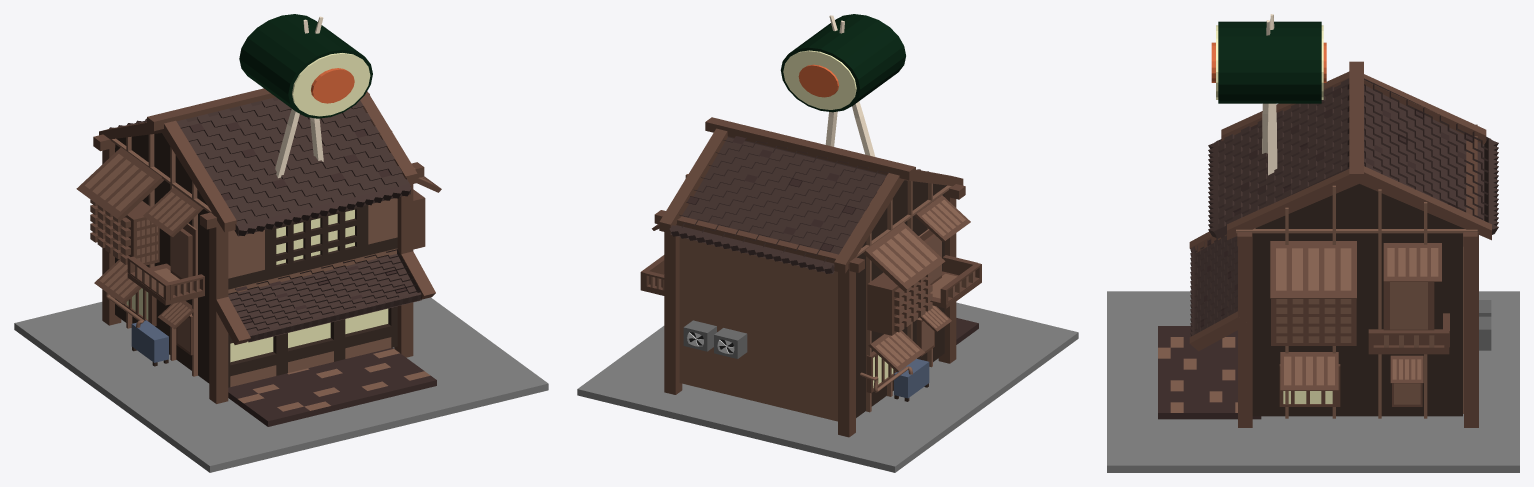
Rendered from sushiStore.fbx.
3 views of the same model, side by side, from view 1: azimuth 30°, elevation 25°; view 2: azimuth 150°, elevation 25°; view 3: azimuth 270°, elevation 25° (orthographic). The views are drawn at different scales.
Visible parts, largest first — view 1: SushiHouse; view 2: SushiHouse; view 3: SushiHouse.
Boxes of the visible parts, bbox=[...] form: SushiHouse: bbox=[14, 14, 548, 472]; SushiHouse: bbox=[577, 14, 1078, 472]; SushiHouse: bbox=[1107, 14, 1519, 472].
Bounding box in the file's own units: 700 × 700 × 700.
